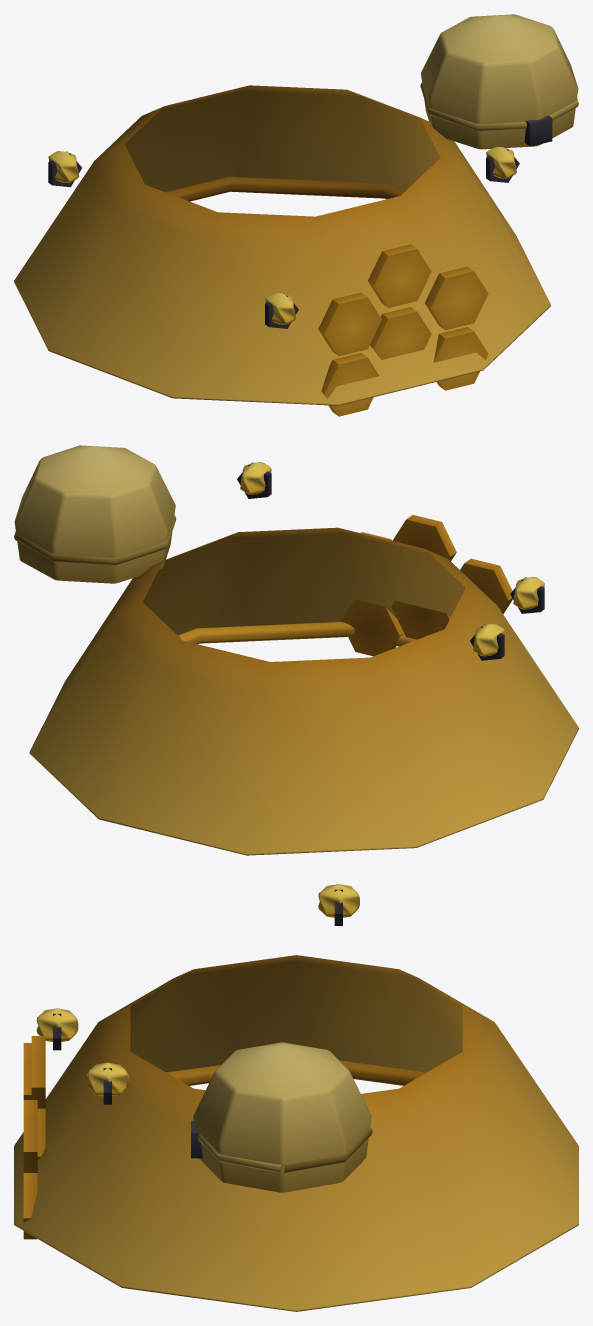
Rendered from lg_beekeeper_habit.glb.
The picture shows the model from 3 angles, top to bottom: view 1: azimuth 30°, elevation 25°; view 2: azimuth 150°, elevation 25°; view 3: azimuth 270°, elevation 25°; orthographic projection. The views are drawn at different scales.
Parts seen in each view (by area): view 1: lg_beekeeper_habit, lg_beekeeper_habit_trim; view 2: lg_beekeeper_habit, lg_beekeeper_habit_trim; view 3: lg_beekeeper_habit, lg_beekeeper_habit_trim.
Part boxes in pixels (box(x1,y1,x2,y2)): lg_beekeeper_habit: box(14, 14, 578, 405); lg_beekeeper_habit_trim: box(48, 115, 552, 416); lg_beekeeper_habit: box(14, 445, 578, 855); lg_beekeeper_habit_trim: box(237, 462, 544, 660); lg_beekeeper_habit: box(14, 884, 578, 1311); lg_beekeeper_habit_trim: box(23, 889, 342, 1239).
Size of the model in its own units: 2.32 by 1.06 by 2.01.
